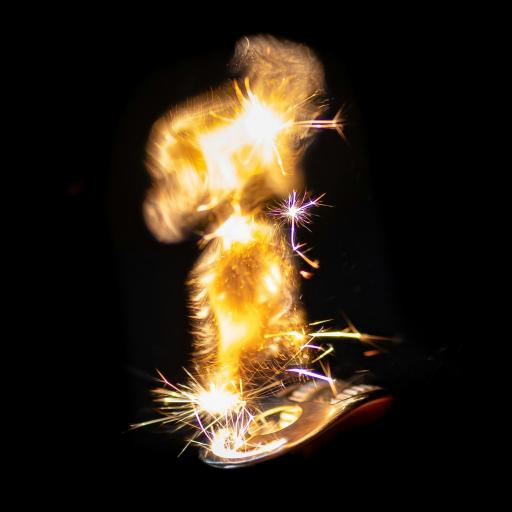fire: (105, 22, 446, 512)
